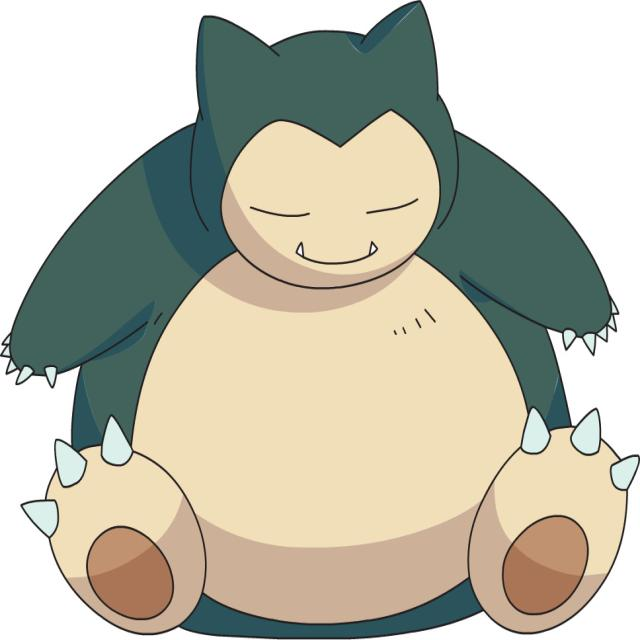Snorlax: (46, 0, 619, 626)
